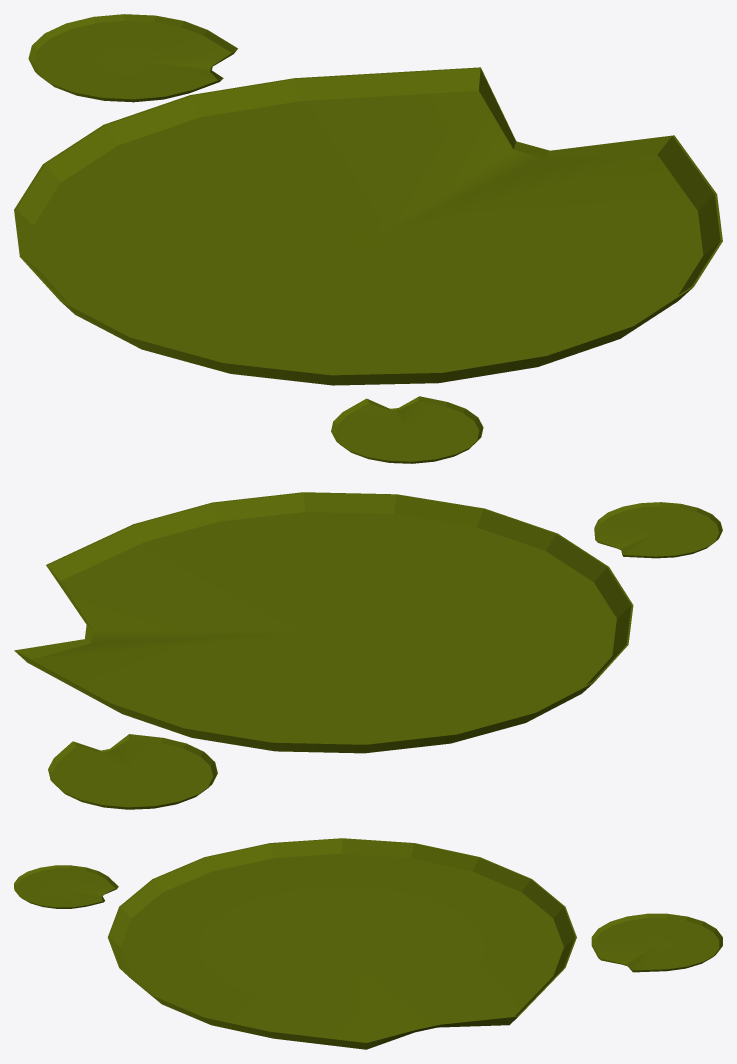
File: FIL_ZenGargen_FloatingLeaves.fbx
3 views of the same model, one above another, from view 1: azimuth 30°, elevation 25°; view 2: azimuth 150°, elevation 25°; view 3: azimuth 270°, elevation 25° (orthographic). The views are drawn at different scales.
Visible parts, largest first — view 1: pCylinder22; view 2: pCylinder22; view 3: pCylinder22.
Boxes of the visible parts, x1,y1,x2,y2 form: pCylinder22: (14,14,722,463); pCylinder22: (14,492,722,809); pCylinder22: (14,838,722,1049).
Size of the model in its own units: 16.3 by 0.755 by 24.01.
